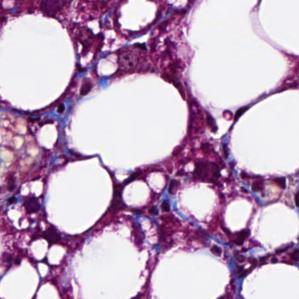inflammation: (144, 195, 175, 220), (71, 73, 100, 99), (210, 242, 225, 259)
